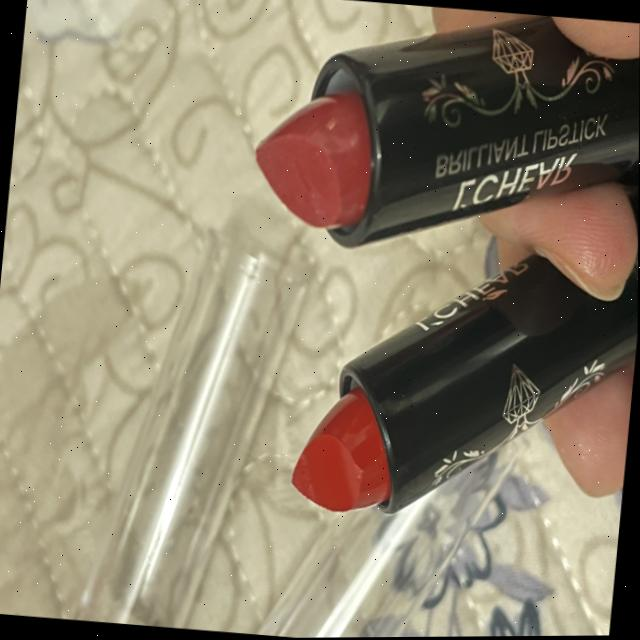lip stick: (221, 0, 640, 282), (268, 278, 638, 560)
